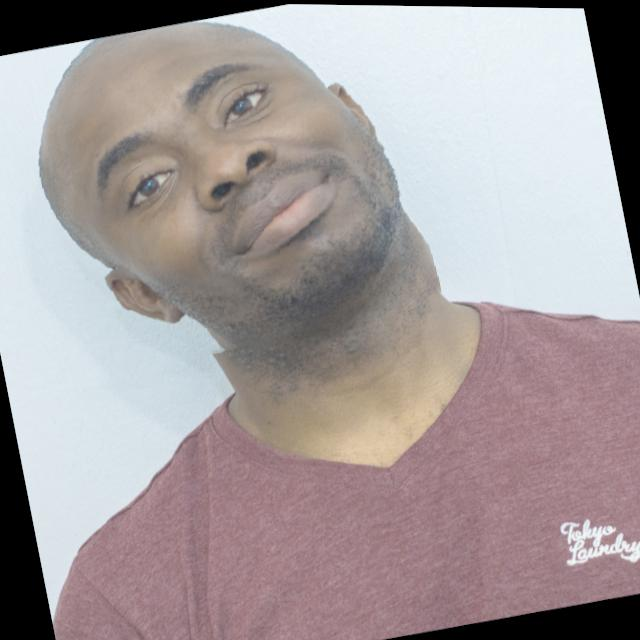happy: (0, 0, 439, 389)
